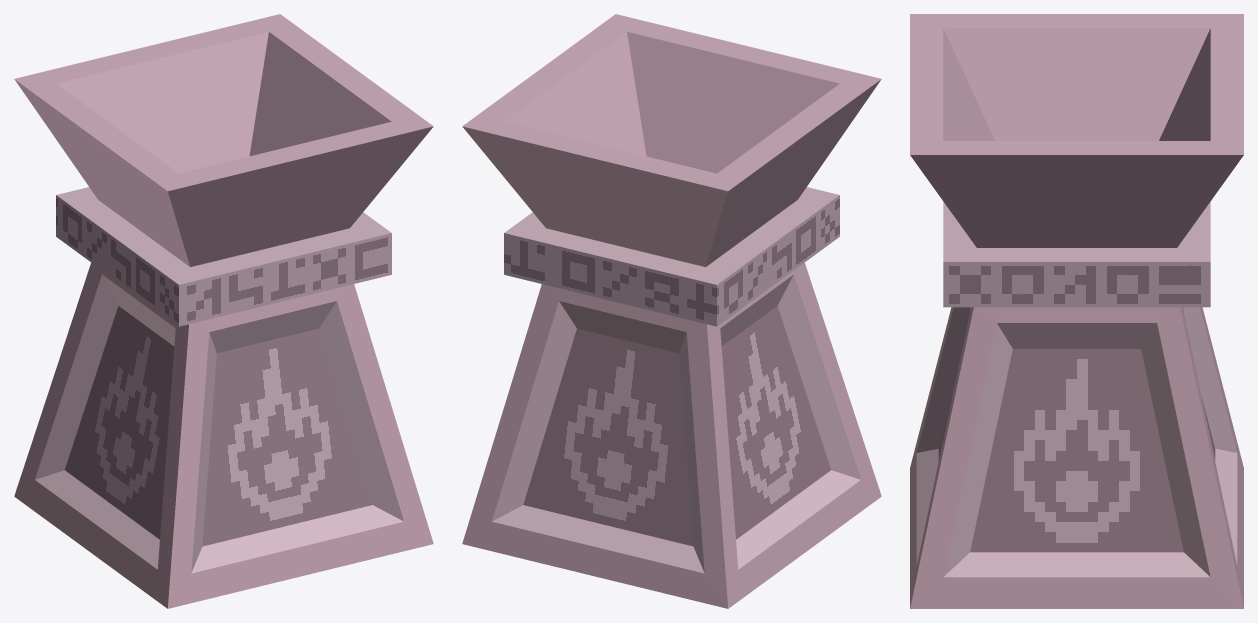
File: GoalBeacon.glb
3 renders of one model, left to right at view 1: azimuth 30°, elevation 25°; view 2: azimuth 150°, elevation 25°; view 3: azimuth 270°, elevation 25°, orthographic. The views are drawn at different scales.
Visible parts, largest first — view 1: GoalBeacon; view 2: GoalBeacon; view 3: GoalBeacon.
Part boxes in pixels (x1=…): GoalBeacon: x1=14, y1=14, x2=433, y2=608; GoalBeacon: x1=462, y1=14, x2=881, y2=608; GoalBeacon: x1=910, y1=14, x2=1243, y2=608.
Bounding box in the file's own units: 2 × 3 × 2.
Materials: 1 (1 with a texture image).
